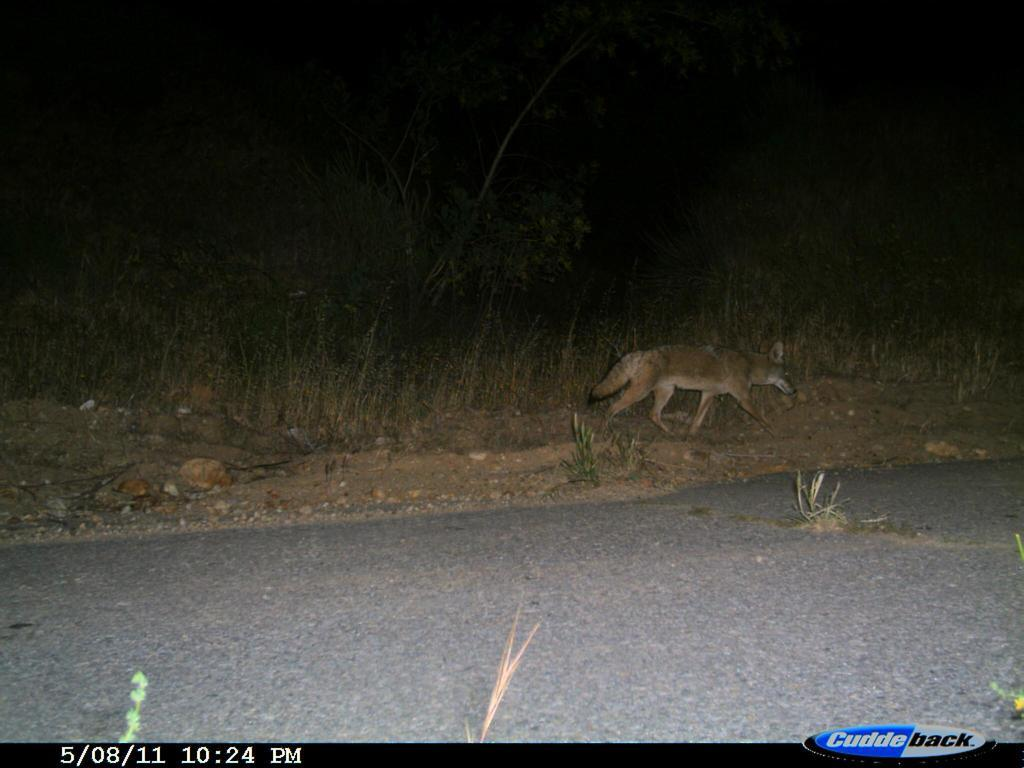coyote: (591, 335, 802, 443)
